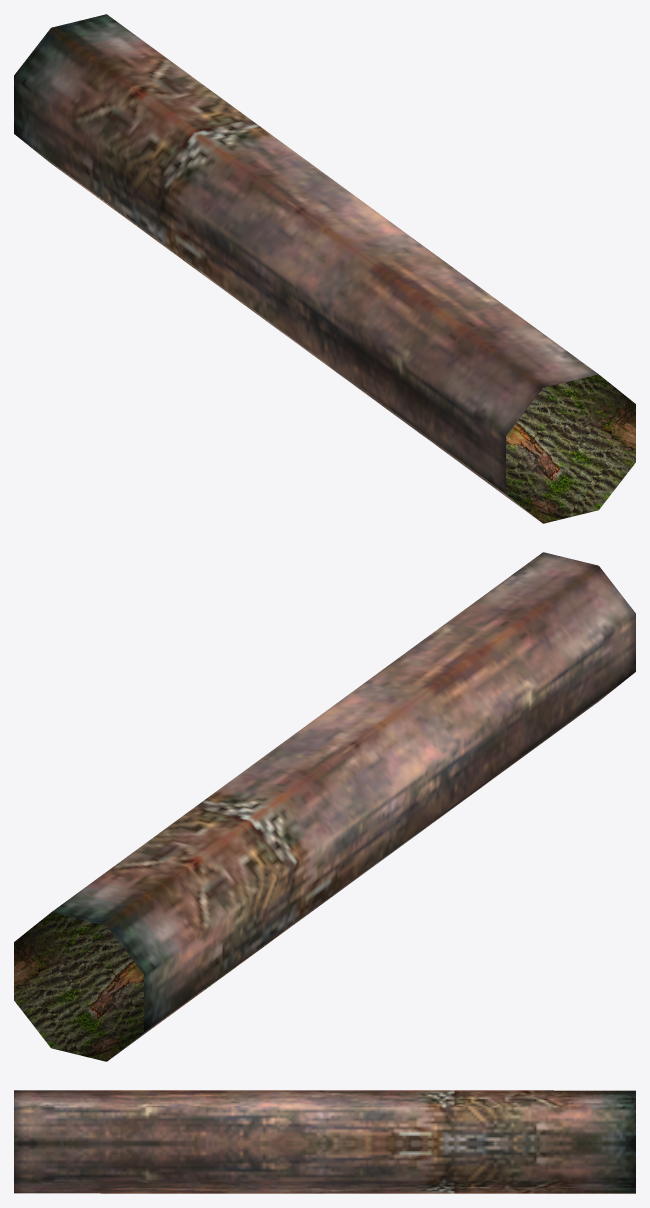
Rendered from S_RFCyl1.glb.
3 views of the same model, one above another, from view 1: azimuth 30°, elevation 25°; view 2: azimuth 150°, elevation 25°; view 3: azimuth 270°, elevation 25° (orthographic). The views are drawn at different scales.
Parts seen in each view (by area): view 1: S_RFCyl1; view 2: S_RFCyl1; view 3: S_RFCyl1.
Boxes of the visible parts, left/top/right/bottom form: S_RFCyl1: left=14, top=14, right=635, bottom=523; S_RFCyl1: left=14, top=552, right=635, bottom=1061; S_RFCyl1: left=14, top=1090, right=635, bottom=1193.
Size of the model in its own units: 0.495 by 0.4952 by 3.25.
Materials: 2 (2 with a texture image).
